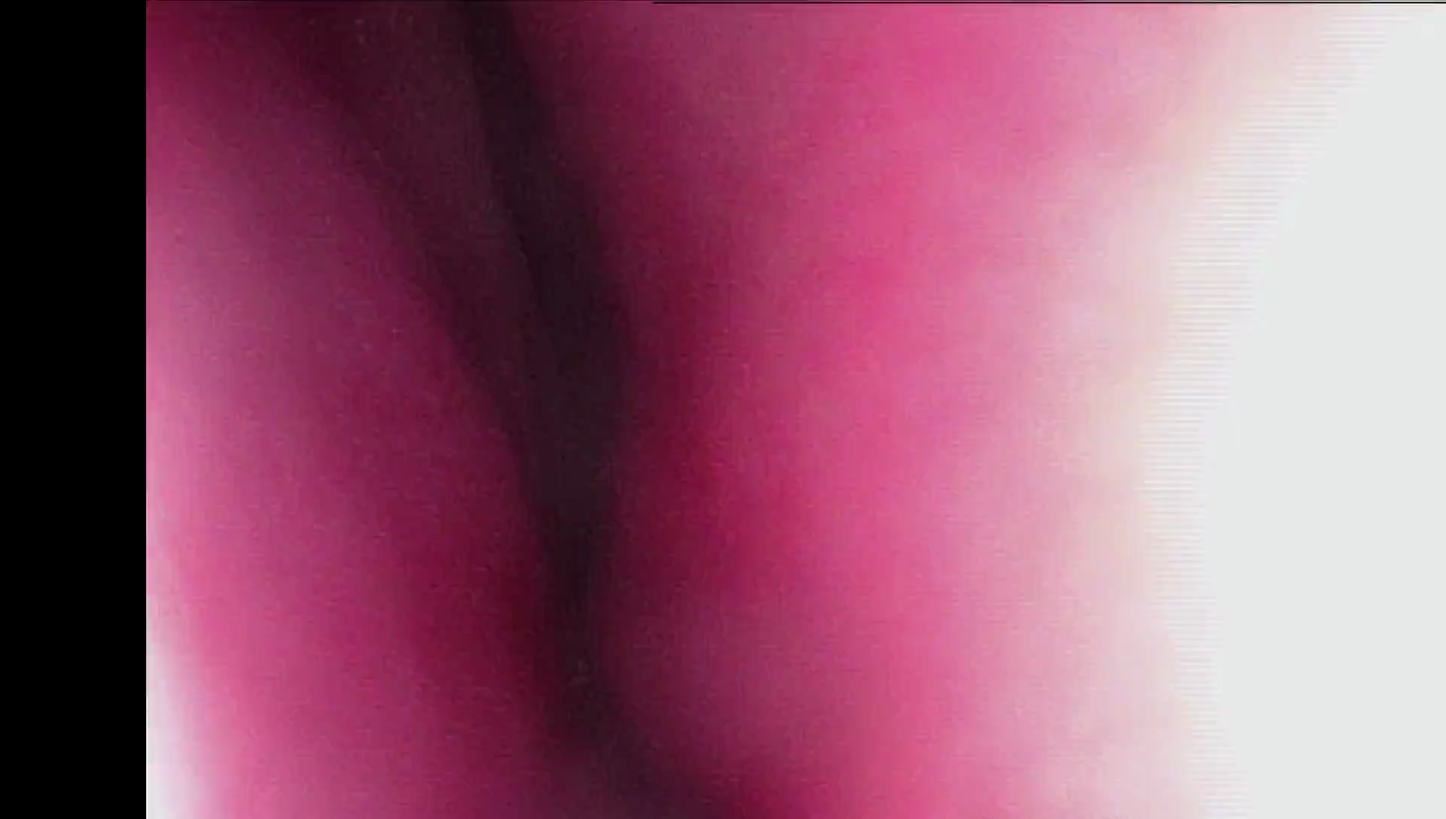close_wall: (853, 19, 1446, 819), (149, 386, 332, 819)
next: (441, 77, 690, 656)
